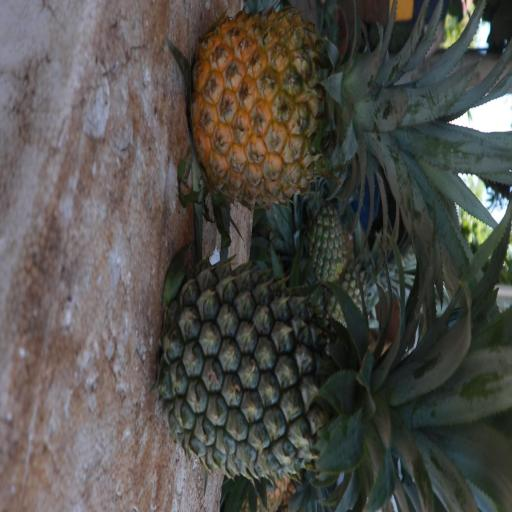Pineapple - v8 v1: (199, 12, 473, 198)
